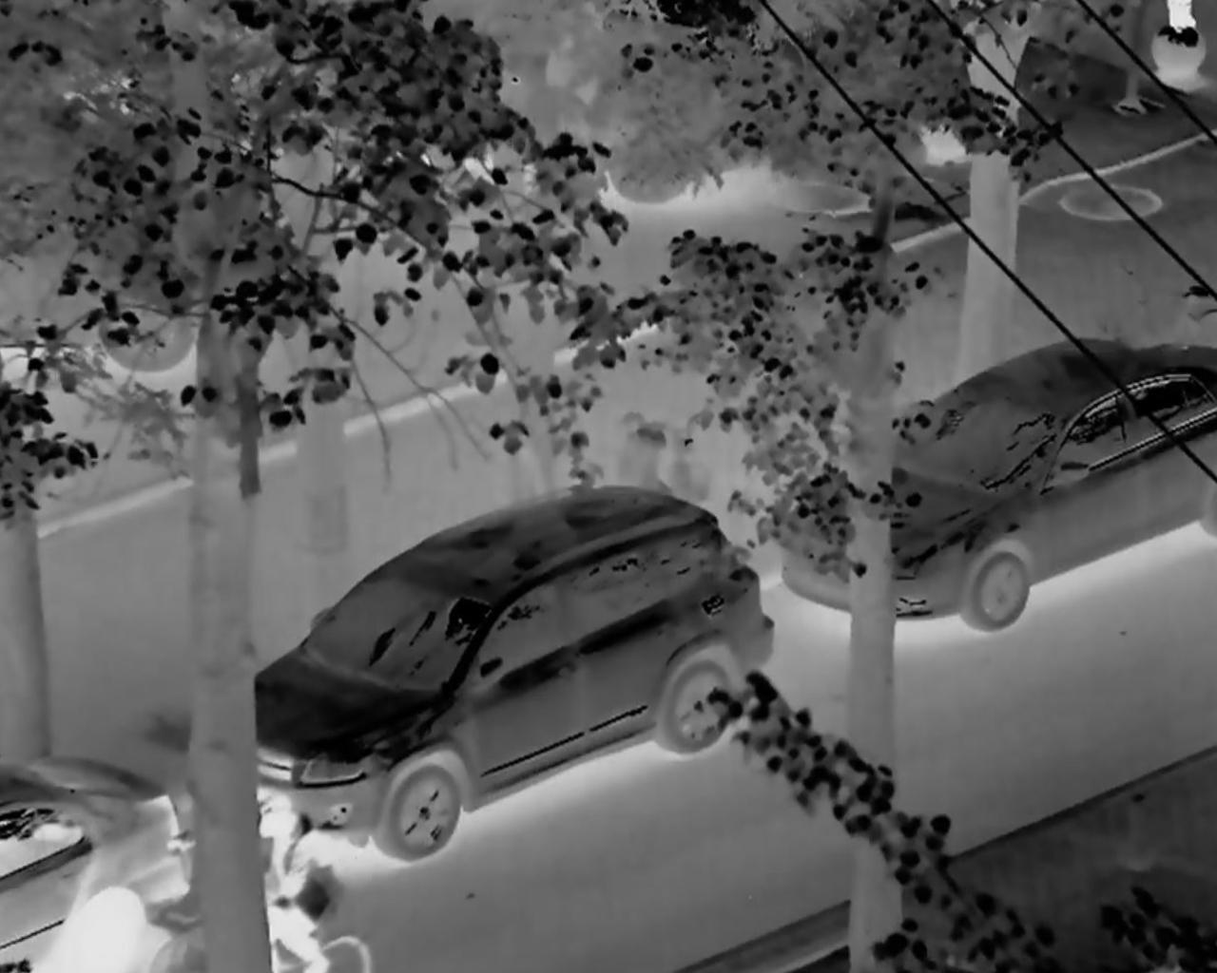person: (244, 804, 362, 973)
